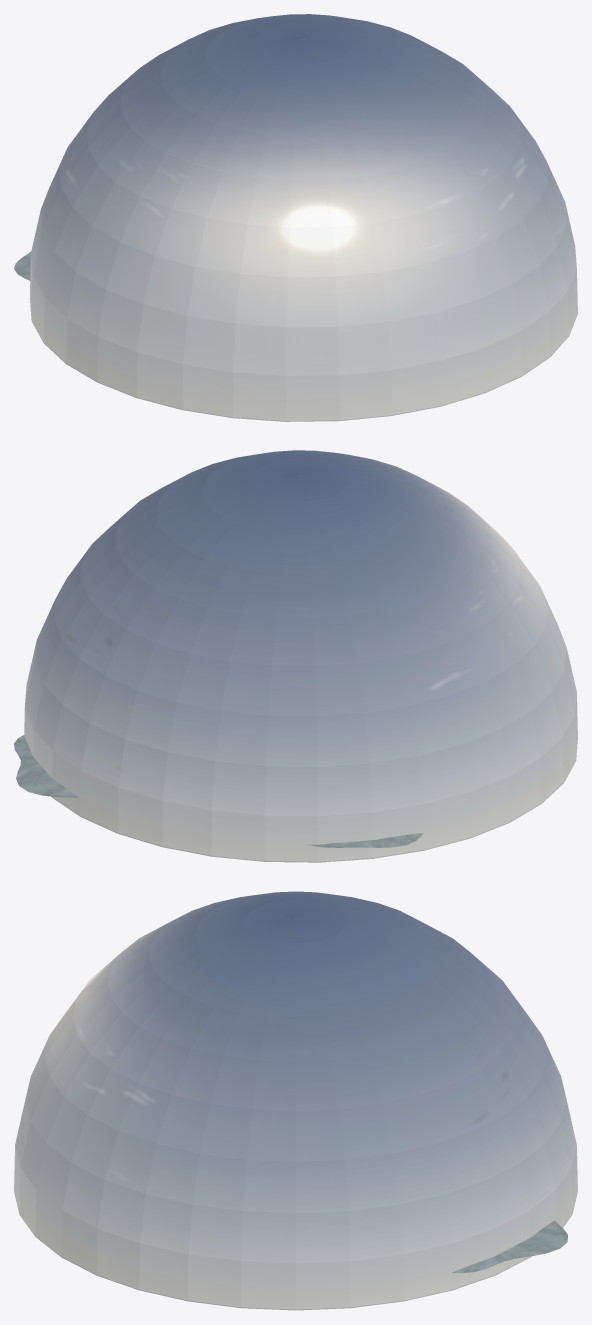
Rendered from lugar-calcuta-ciudad.glb.
3 views of the same model, one above another, from view 1: azimuth 30°, elevation 25°; view 2: azimuth 150°, elevation 25°; view 3: azimuth 270°, elevation 25° (orthographic). The views are drawn at different scales.
Parts seen in each view (by area): view 1: planoC; view 2: planoC, vertT; view 3: planoC, vertT.
Part boxes in pixels (x1=…): planoC: x1=29, y1=14, x2=577, y2=421; planoC: x1=24, y1=450, x2=577, y2=862; vertT: x1=14, y1=735, x2=422, y2=847; planoC: x1=14, y1=891, x2=577, y2=1310; vertT: x1=452, y1=1220, x2=567, y2=1273.
Size of the model in its own units: 6584 by 3530 by 6584.
14 materials, 13 textured.
